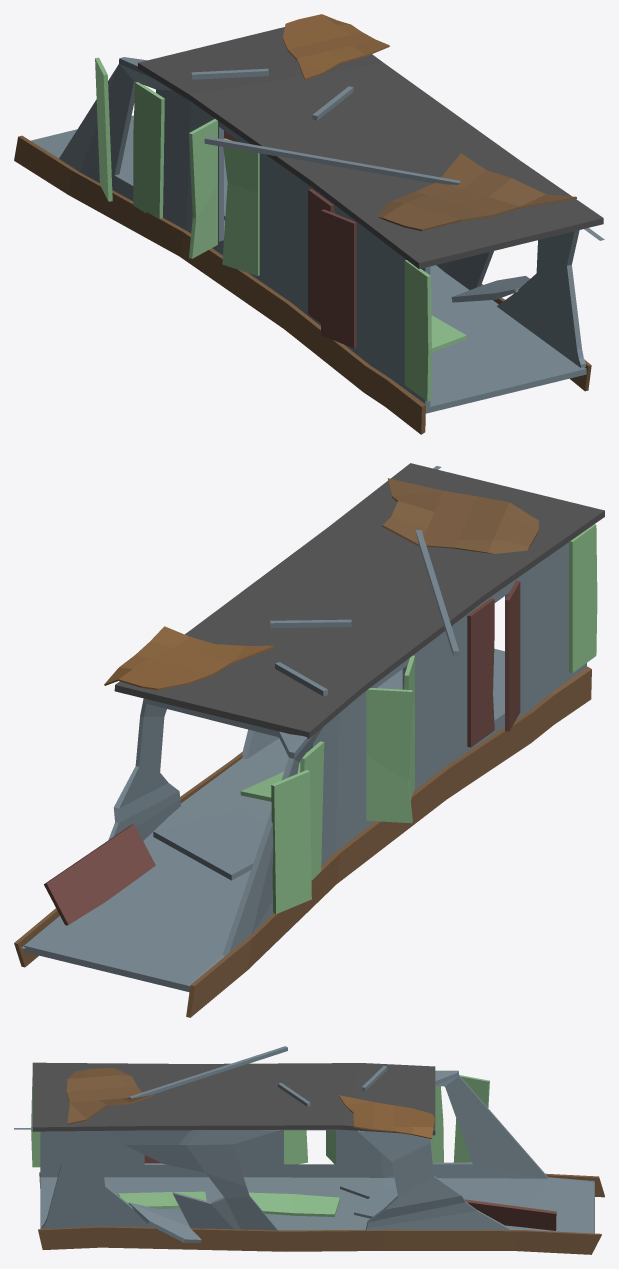
File: Pont_droit.fbx
3 views of the same model, one above another, from view 1: azimuth 30°, elevation 25°; view 2: azimuth 150°, elevation 25°; view 3: azimuth 270°, elevation 25° (orthographic). The views are drawn at different scales.
Parts seen in each view (by area): view 1: PontForeground.001; view 2: PontForeground.001; view 3: PontForeground.001.
Boxes of the visible parts, x1,y1,x2,y2 form: PontForeground.001: (14, 14, 604, 434); PontForeground.001: (14, 463, 604, 1017); PontForeground.001: (14, 1046, 604, 1254).
Size of the model in its own units: 611 by 478 by 1736.
